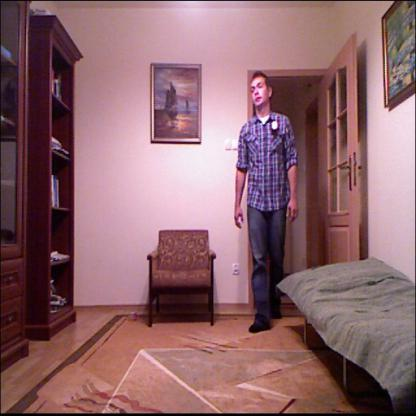normal: (240, 67, 301, 339)
